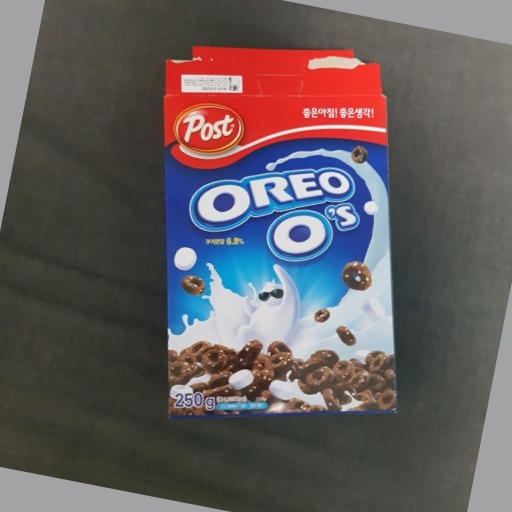Paper_0: (157, 36, 411, 435)
